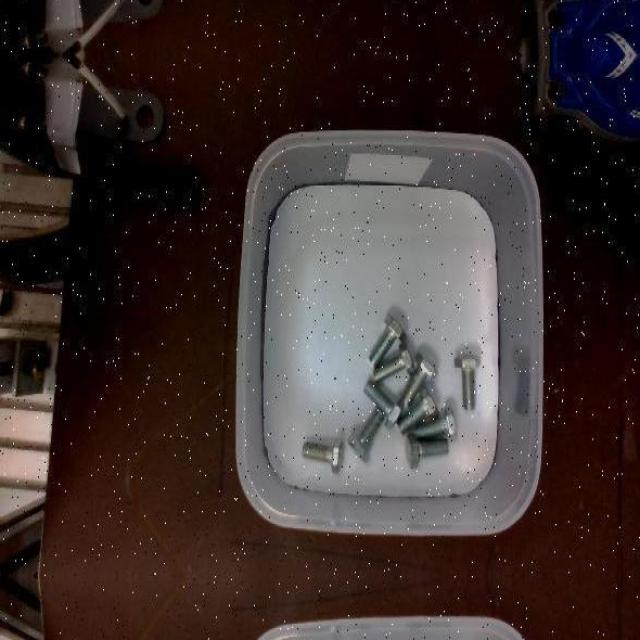screw: (362, 379, 403, 429), (347, 408, 384, 463), (397, 386, 439, 434), (369, 313, 407, 366), (402, 353, 438, 406), (373, 340, 416, 382), (301, 438, 344, 475), (405, 432, 449, 468), (413, 405, 457, 441), (454, 352, 481, 409)
